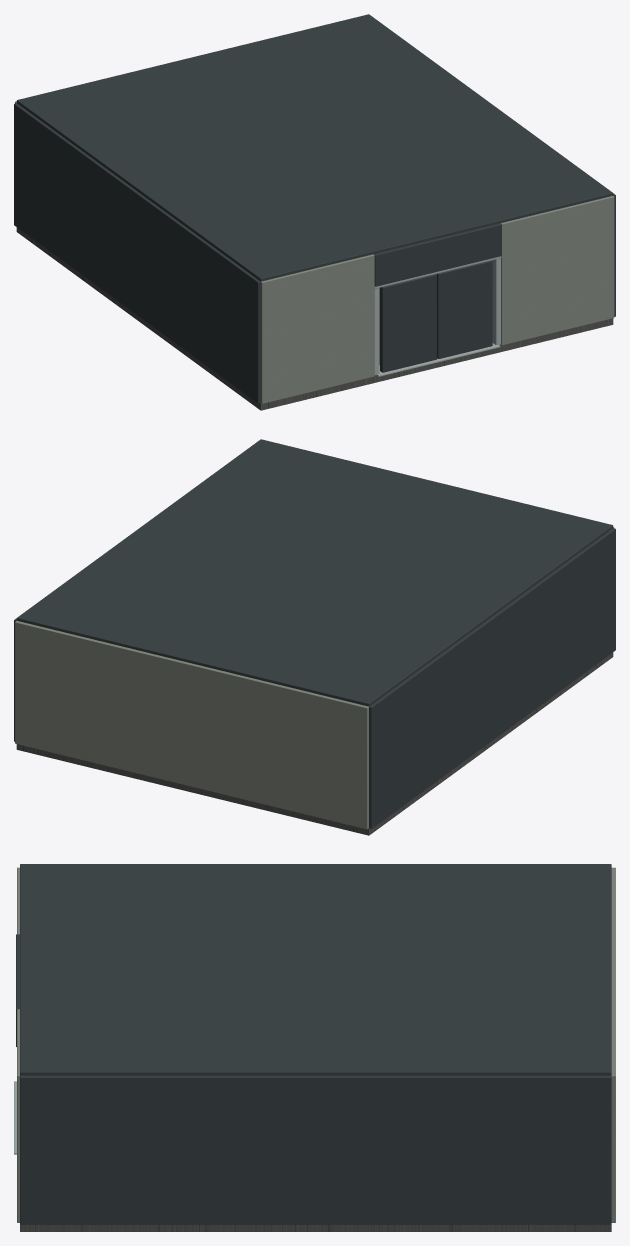
The model's file is containment.glb.
3 renders of one model, top to bottom at view 1: azimuth 30°, elevation 25°; view 2: azimuth 150°, elevation 25°; view 3: azimuth 270°, elevation 25°, orthographic. The views are drawn at different scales.
Visible parts, largest first — view 1: CH_Anthracite_Powdercoat_Geometry, CH_Ivory_Enamel_Geometry, CH_Door_Left, CH_Door_Right, CH_Floor_Concrete_Geometry, CH_Brushed_Stainless_Geometry; view 2: CH_Anthracite_Powdercoat_Geometry, CH_Ivory_Enamel_Geometry, CH_Floor_Concrete_Geometry; view 3: CH_Anthracite_Powdercoat_Geometry, CH_Floor_Concrete_Geometry, CH_Ivory_Enamel_Geometry.
Part boxes in pixels (bbox=[...]): CH_Anthracite_Powdercoat_Geometry: bbox=[14, 14, 615, 403]; CH_Ivory_Enamel_Geometry: bbox=[15, 101, 614, 403]; CH_Door_Left: bbox=[380, 274, 436, 372]; CH_Door_Right: bbox=[436, 260, 492, 358]; CH_Floor_Concrete_Geometry: bbox=[16, 227, 613, 410]; CH_Brushed_Stainless_Geometry: bbox=[374, 256, 501, 376]; CH_Anthracite_Powdercoat_Geometry: bbox=[14, 439, 615, 828]; CH_Ivory_Enamel_Geometry: bbox=[15, 527, 614, 829]; CH_Floor_Concrete_Geometry: bbox=[16, 652, 613, 835]; CH_Anthracite_Powdercoat_Geometry: bbox=[16, 864, 611, 1224]; CH_Floor_Concrete_Geometry: bbox=[20, 1224, 611, 1231]; CH_Ivory_Enamel_Geometry: bbox=[17, 867, 615, 1222].
Bounding box in the file's own units: 10.16 × 3.58 × 12.21.
19 materials, 4 textured.
